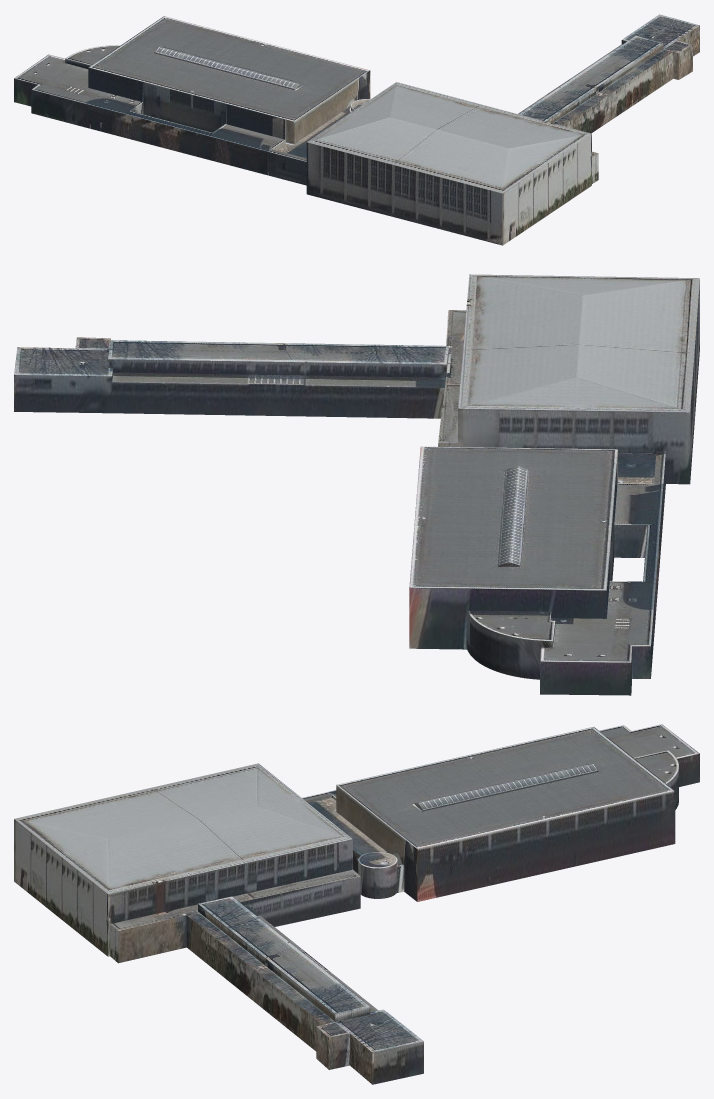
Rendered from LYON_1ER_00080.dae.
3 renders of one model, top to bottom at view 1: azimuth 30°, elevation 25°; view 2: azimuth 150°, elevation 25°; view 3: azimuth 270°, elevation 25°, orthographic. The views are drawn at different scales.
Bounding box in the file's own units: 132 × 115 × 12.74.
2 materials, 2 textured.
